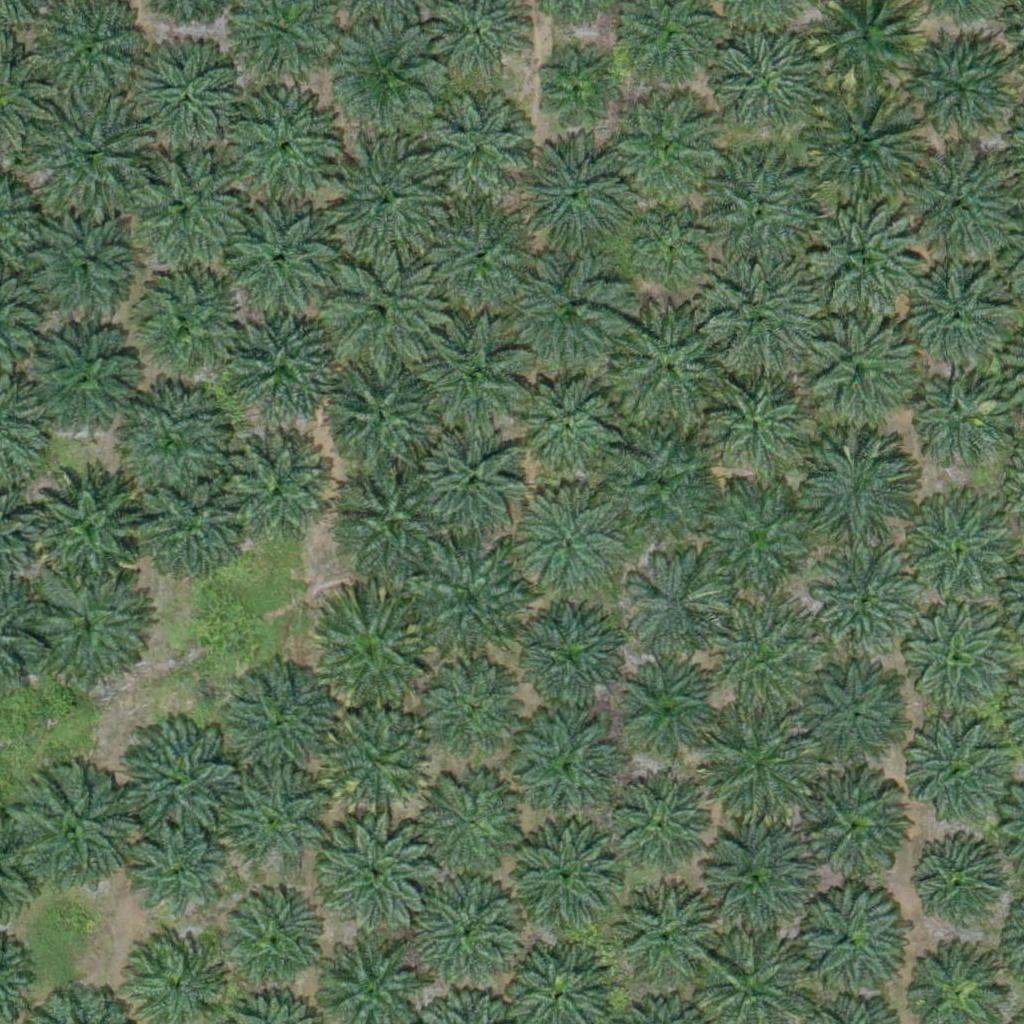Kelapa_Sawit: (111, 150, 236, 276), (24, 461, 149, 587), (28, 565, 153, 691), (321, 135, 446, 261), (317, 250, 442, 376), (613, 306, 738, 432), (699, 153, 824, 279), (115, 719, 240, 845), (9, 772, 134, 898), (116, 261, 241, 386), (105, 379, 230, 504), (308, 594, 433, 719), (704, 28, 817, 142), (422, 201, 535, 315), (419, 94, 532, 208), (901, 604, 1014, 718), (795, 659, 908, 773), (330, 22, 443, 135), (25, 324, 138, 437), (26, 210, 139, 323), (39, 95, 152, 208), (131, 469, 244, 582), (418, 426, 531, 539), (415, 322, 528, 435), (514, 606, 627, 719), (705, 258, 818, 371), (799, 435, 912, 548), (802, 315, 915, 428), (807, 211, 920, 324), (904, 494, 1017, 607), (504, 817, 617, 930), (322, 813, 435, 926), (514, 142, 626, 256), (516, 256, 628, 370), (604, 435, 716, 549), (699, 486, 811, 600), (813, 545, 925, 659), (795, 767, 907, 881), (790, 880, 902, 994), (704, 706, 816, 820), (906, 38, 1018, 151), (141, 45, 253, 158), (222, 432, 334, 545), (229, 307, 341, 420), (221, 204, 333, 317), (226, 94, 338, 207), (326, 364, 438, 477), (333, 462, 445, 575), (415, 549, 527, 662), (703, 606, 815, 719), (808, 87, 920, 200), (903, 147, 1015, 260), (899, 256, 1011, 369), (697, 825, 809, 938), (413, 765, 525, 878), (414, 875, 526, 988), (522, 491, 622, 592), (616, 662, 716, 763), (616, 104, 716, 205), (909, 360, 1009, 461), (909, 721, 1009, 822), (609, 773, 709, 874), (613, 880, 713, 981), (517, 715, 617, 816), (420, 658, 520, 759), (326, 708, 426, 809), (236, 670, 336, 771), (224, 768, 324, 869), (220, 889, 320, 990), (126, 821, 226, 922), (515, 374, 615, 474), (622, 559, 722, 659), (708, 370, 808, 470), (913, 835, 1013, 935), (535, 54, 610, 130), (637, 213, 712, 289)
